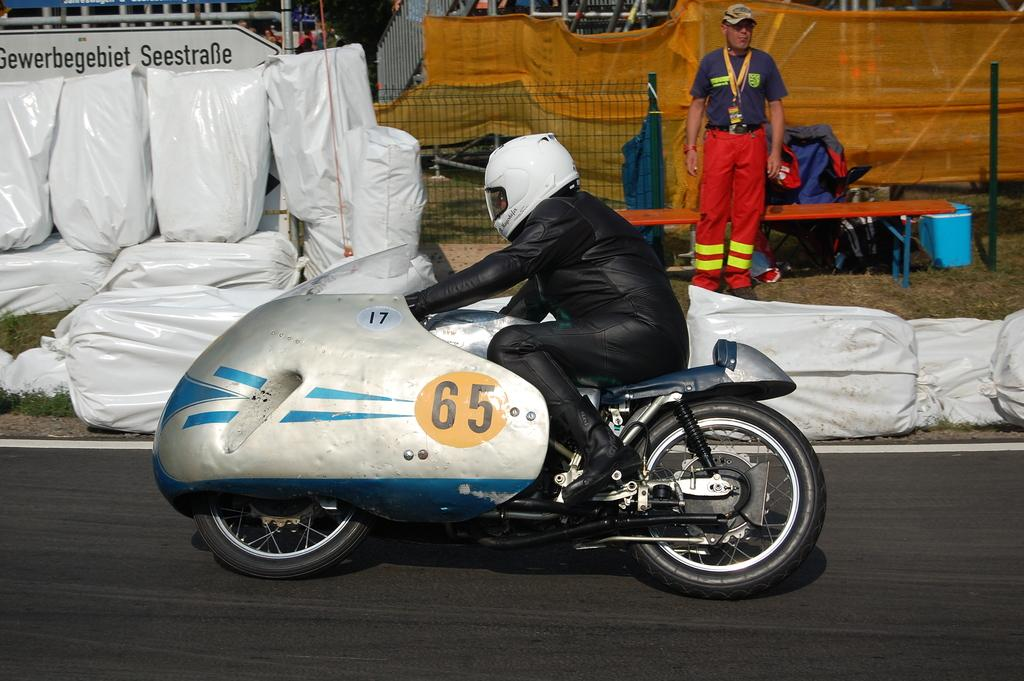helmet: (484, 132, 581, 243)
nohelmet: (720, 3, 758, 54)
